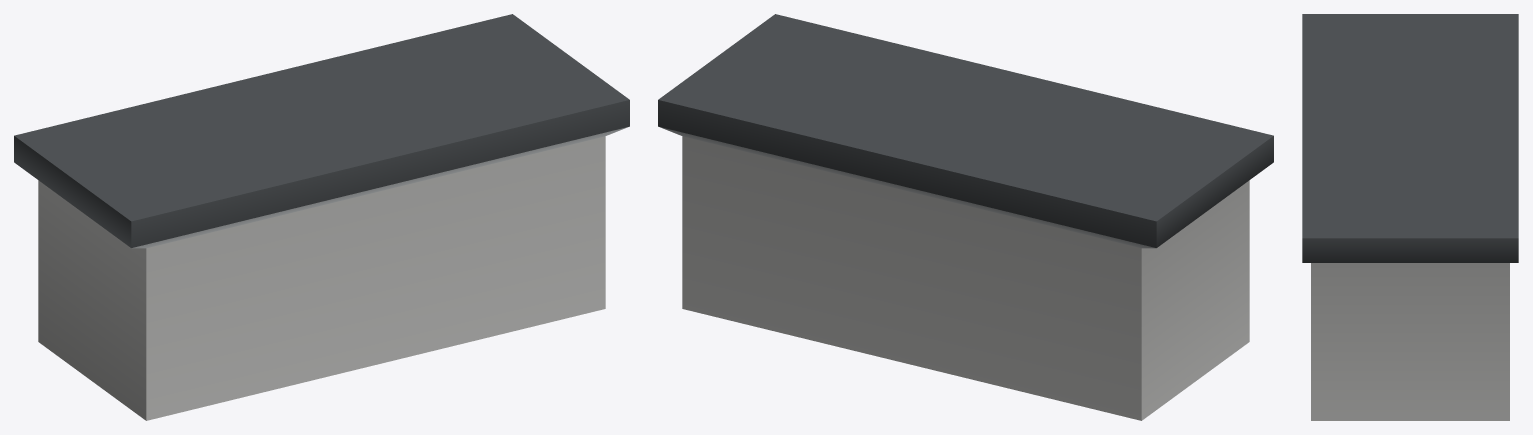
The model's file is island.fbx.
3 renders of one model, left to right at view 1: azimuth 30°, elevation 25°; view 2: azimuth 150°, elevation 25°; view 3: azimuth 270°, elevation 25°, orthographic. The views are drawn at different scales.
Parts seen in each view (by area): view 1: island; view 2: island; view 3: island.
Boxes of the visible parts, left/top/right/bottom form: island: left=14, top=14, right=629, bottom=420; island: left=658, top=14, right=1273, bottom=420; island: left=1302, top=14, right=1518, bottom=420.
Bounding box in the file's own units: 6.93 × 2.76 × 2.82.
Materials: 1 (1 with a texture image).
